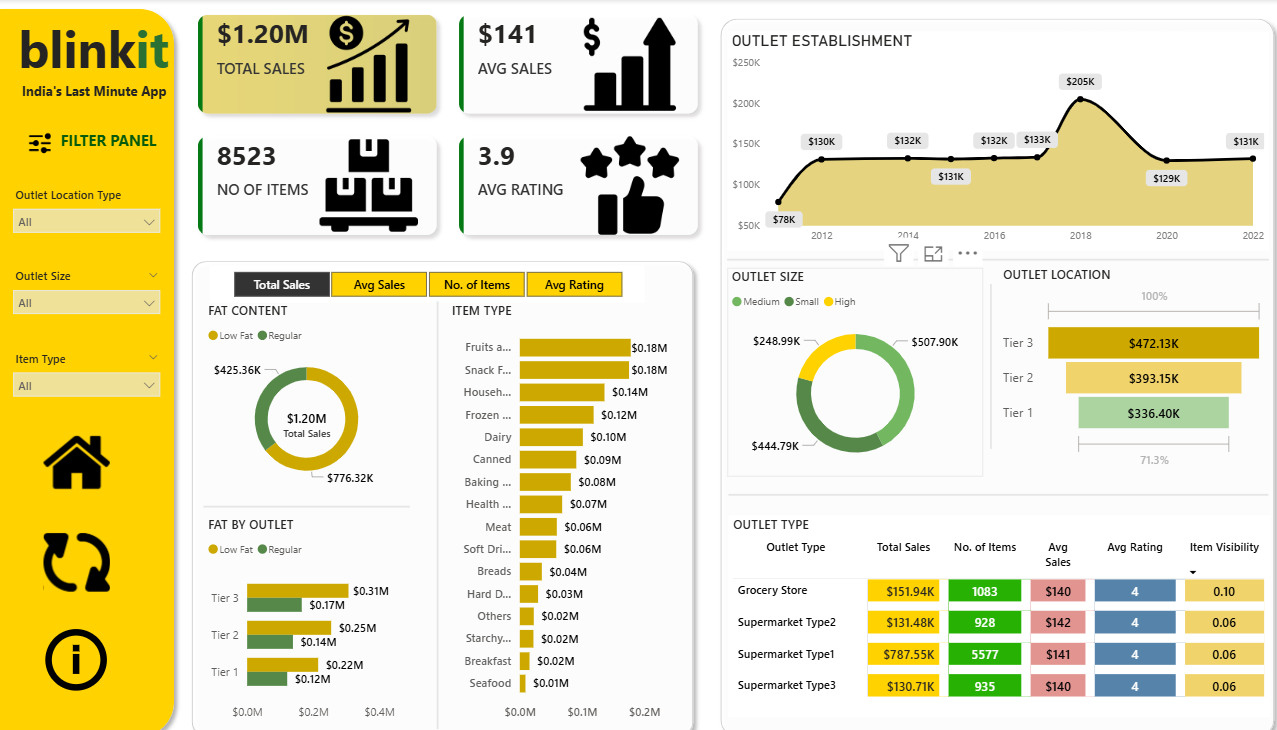

The dashboard page shown, as its layout file describes it:
{"tool":"powerbi","page":{"name":"Home","canvas":[1420,800],"ordinal":0},"visuals":[{"type":"shape","box":[0,1.6,205.3,799],"z":0},{"type":"textbox","box":[14.1,12.4,190.9,99],"z":1000},{"type":"textbox","box":[14.1,84.8,178.5,38.9],"z":2000},{"type":"cardVisual","fields":{"Data":["BlinkIT Grocery Data.Total Sales","BlinkIT Grocery Data.Avg Sales","BlinkIT Grocery Data.No. of Items","BlinkIT Grocery Data.Avg Rating"]},"box":[205,0,570,270],"z":3000},{"type":"shape","box":[206.2,272.6,555.7,527.7],"z":4000},{"type":"donutChart","title":"FAT CONTENT","fields":{"Y":["BlinkIT Grocery Data.Total Sales"],"Category":["BlinkIT Grocery Data.Item Fat Content"]},"box":[227.6,324.7,221.2,206.9],"z":5000},{"type":"slicer","fields":{"Values":["Metrics.Metrics"]},"box":[234,284.9,466.3,39.8],"z":6000},{"type":"cardVisual","fields":{"Data":["BlinkIT Grocery Data.Total Sales"]},"box":[280.1,420.2,117.8,73.2],"z":7000},{"type":"clusteredBarChart","title":"FAT BY OUTLET","fields":{"Y":["BlinkIT Grocery Data.Total Sales"],"Category":["BlinkIT Grocery Data.Outlet Location Type"],"Series":["BlinkIT Grocery Data.Item Fat Content"]},"box":[227.6,553.9,221.2,229.2],"z":8000},{"type":"shape","box":[227.6,534.8,221.2,19.1],"z":9000},{"type":"shape","box":[467.9,324.7,22.3,458.4],"z":10000},{"type":"barChart","title":"ITEM TYPE","fields":{"Y":["BlinkIT Grocery Data.Total Sales"],"Category":["BlinkIT Grocery Data.Item Type"]},"box":[489.3,323.9,258.4,458.3],"z":11000},{"type":"shape","box":[774.1,12.2,611.6,788.1],"z":12000},{"type":"lineChart","title":"OUTLET ESTABLISHMENT","fields":{"Y":["BlinkIT Grocery Data.Total Sales"],"Category":["BlinkIT Grocery Data.Outlet Establishment Year"]},"box":[789.4,35,580.9,235.5],"z":13000},{"type":"shape","box":[789.4,270.6,580.9,17.5],"z":14000},{"type":"donutChart","title":"OUTLET SIZE","fields":{"Y":["BlinkIT Grocery Data.Total Sales"],"Category":["BlinkIT Grocery Data.Outlet Size"]},"box":[789.4,288.1,275.3,224.4],"z":15000},{"type":"shape","box":[1064.7,305.6,15.9,176.7],"z":16000},{"type":"funnel","title":"OUTLET LOCATION","fields":{"Category":["BlinkIT Grocery Data.Outlet Location Type"],"Y":["Sum(BlinkIT Grocery Data.Sales)"]},"box":[1080.7,284.9,289.7,224],"z":17000},{"type":"pivotTable","title":"OUTLET TYPE","fields":{"Rows":["BlinkIT Grocery Data.Outlet Type"],"Values":["BlinkIT Grocery Data.Total Sales","BlinkIT Grocery Data.No. of Items","BlinkIT Grocery Data.Avg Sales","BlinkIT Grocery Data.Avg Rating","Avg(BlinkIT Grocery Data.Item Visibility)"]},"box":[790.7,553,580.6,217.1],"z":18000},{"type":"shape","box":[790.7,518.5,578.8,25.8],"z":19000},{"type":"slicer","fields":{"Values":["BlinkIT Grocery Data.Outlet Location Type"]},"box":[14,197.5,178.2,73.4],"z":20000},{"type":"slicer","fields":{"Values":["BlinkIT Grocery Data.Outlet Size"]},"box":[14,284.8,178.2,73.4],"z":21000},{"type":"slicer","fields":{"Values":["BlinkIT Grocery Data.Item Type"]},"box":[14,372.2,178.2,73],"z":22000},{"type":"image","box":[35,135.3,35,38.2],"z":23000},{"type":"textbox","box":[70,135.3,122.5,38.2],"z":24000},{"type":"actionButton","box":[52.5,565,79.6,79.6],"z":25000},{"type":"actionButton","box":[52.5,456.8,79.6,79.6],"z":26000},{"type":"actionButton","box":[52.5,668.4,78,79.6],"z":27000}]}

Visuals, with their boxes in screenshot pixels (x1, y1, x2, y2), scaled from the page's 1420x800 canvas onto the 1277x730 screenshot:
shape: box=[0, 1, 185, 729]
textbox: box=[13, 11, 184, 102]
textbox: box=[13, 77, 173, 113]
cardVisual - BlinkIT Grocery Data.Total Sales x BlinkIT Grocery Data.Avg Sales: box=[184, 0, 697, 246]
shape: box=[185, 249, 685, 729]
"FAT CONTENT" donutChart: box=[205, 296, 404, 485]
slicer - Metrics.Metrics: box=[210, 260, 630, 296]
cardVisual - BlinkIT Grocery Data.Total Sales: box=[252, 383, 358, 450]
"FAT BY OUTLET" clusteredBarChart: box=[205, 505, 404, 715]
shape: box=[205, 488, 404, 505]
shape: box=[421, 296, 441, 715]
"ITEM TYPE" barChart: box=[440, 296, 672, 714]
shape: box=[696, 11, 1246, 729]
"OUTLET ESTABLISHMENT" lineChart: box=[710, 32, 1232, 247]
shape: box=[710, 247, 1232, 263]
"OUTLET SIZE" donutChart: box=[710, 263, 957, 468]
shape: box=[957, 279, 972, 440]
"OUTLET LOCATION" funnel: box=[972, 260, 1232, 464]
"OUTLET TYPE" pivotTable: box=[711, 505, 1233, 703]
shape: box=[711, 473, 1232, 497]
slicer - BlinkIT Grocery Data.Outlet Location Type: box=[13, 180, 173, 247]
slicer - BlinkIT Grocery Data.Outlet Size: box=[13, 260, 173, 327]
slicer - BlinkIT Grocery Data.Item Type: box=[13, 340, 173, 406]
image: box=[31, 123, 63, 158]
textbox: box=[63, 123, 173, 158]
actionButton: box=[47, 516, 119, 588]
actionButton: box=[47, 417, 119, 489]
actionButton: box=[47, 610, 117, 683]
